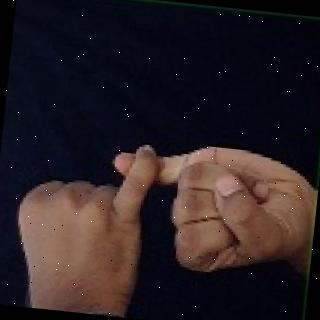S: (0, 118, 311, 320)
